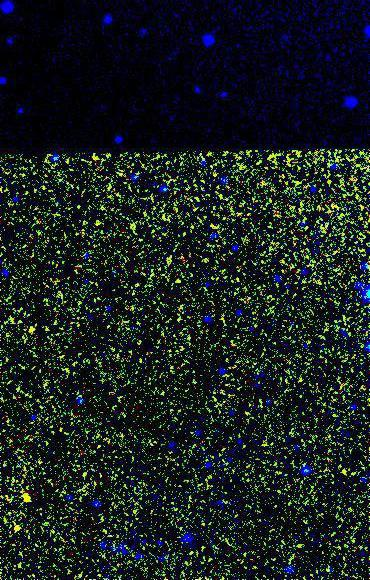star: (13, 483, 43, 513)
